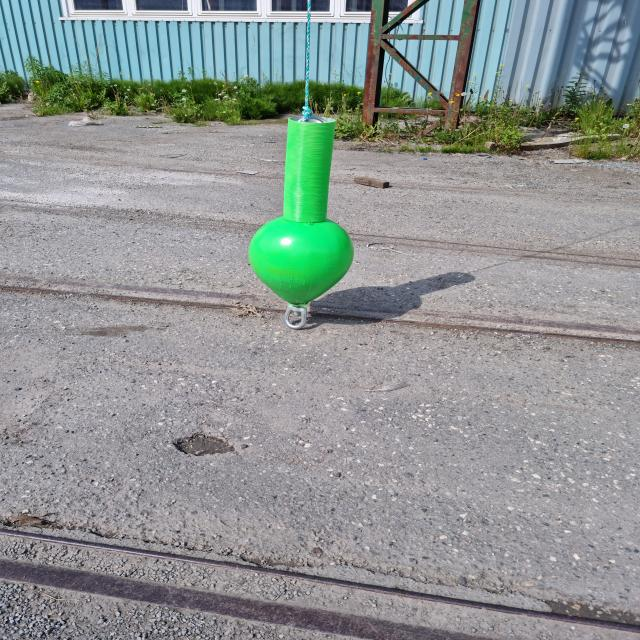green: (248, 115, 356, 306)
